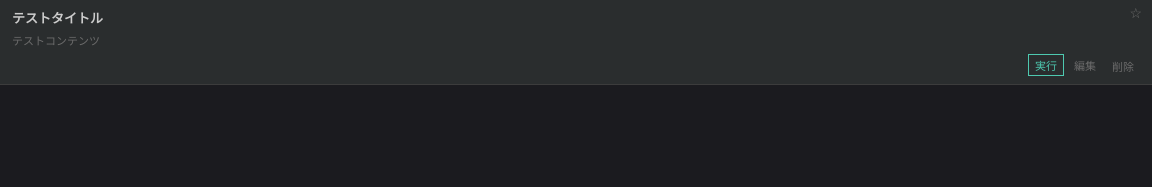
Test case: PromptItem › インライン編集 › 保存後に編集モードが終了してビュー表示に戻る
The width and height of the screenshot is (1152, 187).
Click the button with aria-label "プロンプトを編集" at (1085, 65), box [1068,54,1102,76]
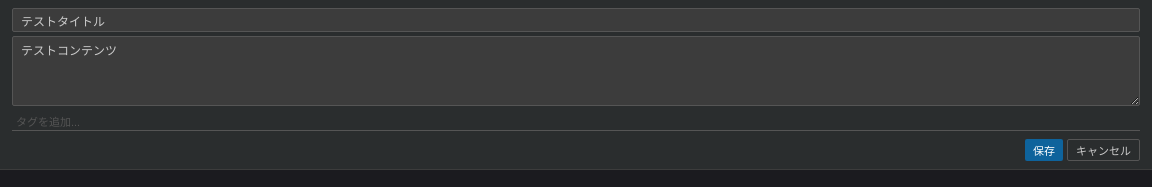
Click the button with aria-label "変更を保存" at (1044, 150), box [1025,139,1063,161]
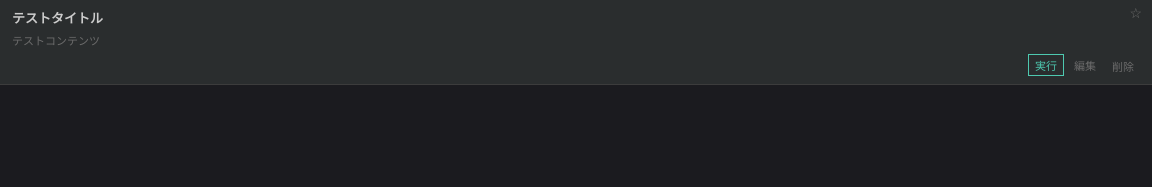
Check: the button with aria-label "プロンプトを編集" is shown, box [1068,54,1102,76]
Check: the field labelled "タイトルを編集" is gone
